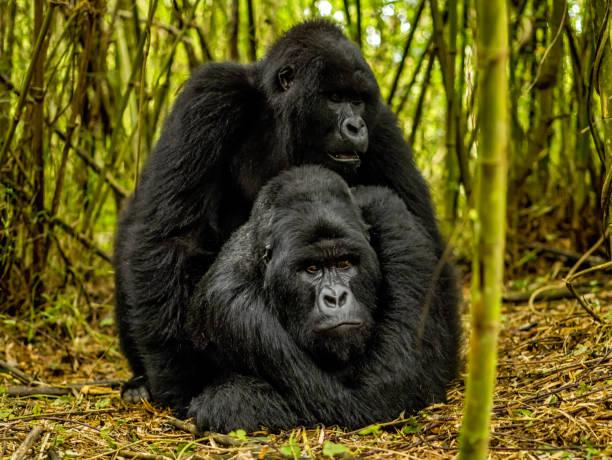goriile_montagne: (126, 165, 470, 421), (114, 21, 421, 178)
